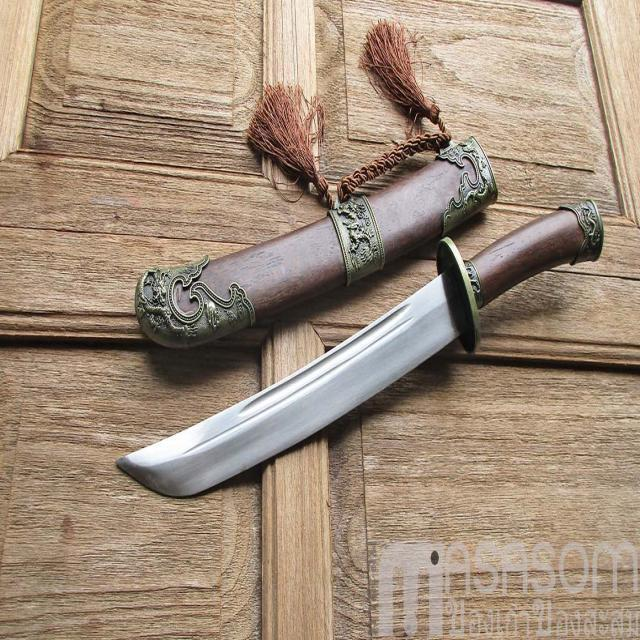short sword: (101, 10, 614, 515)
